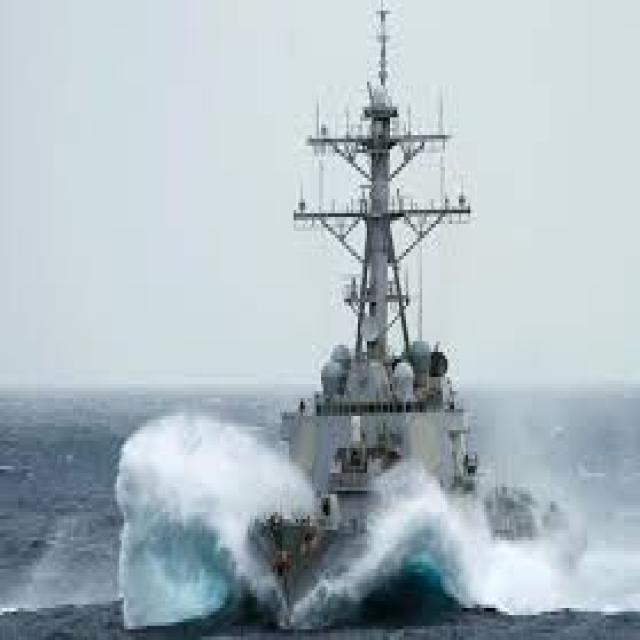navalvessels: (238, 0, 575, 619)
